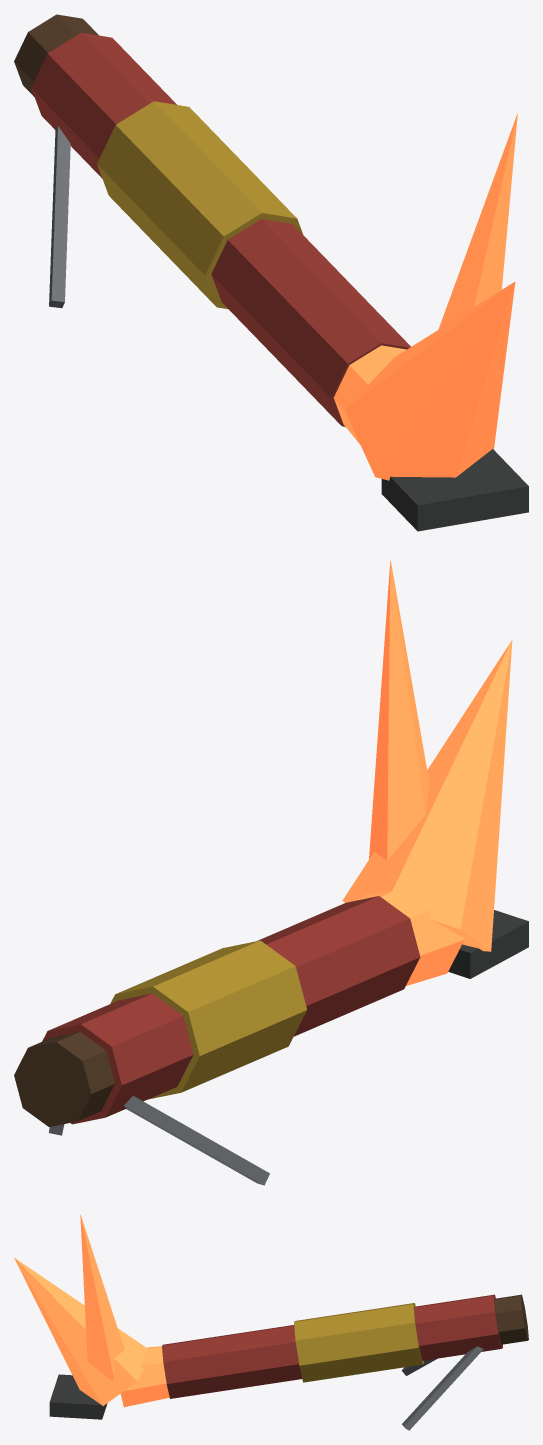
File: item_flare_lit.glb
3 renders of one model, top to bottom at view 1: azimuth 30°, elevation 25°; view 2: azimuth 150°, elevation 25°; view 3: azimuth 270°, elevation 25°, orthographic. The views are drawn at different scales.
Parts seen in each view (by area): view 1: flare_lit; view 2: flare_lit; view 3: flare_lit.
Part boxes in pixels (box(x1,y1,x2,y2)): flare_lit: box(14, 14, 528, 531); flare_lit: box(14, 560, 528, 1185); flare_lit: box(14, 1214, 528, 1430).
Bounding box in the file's own units: 0.1058 × 0.1736 × 0.3882.
